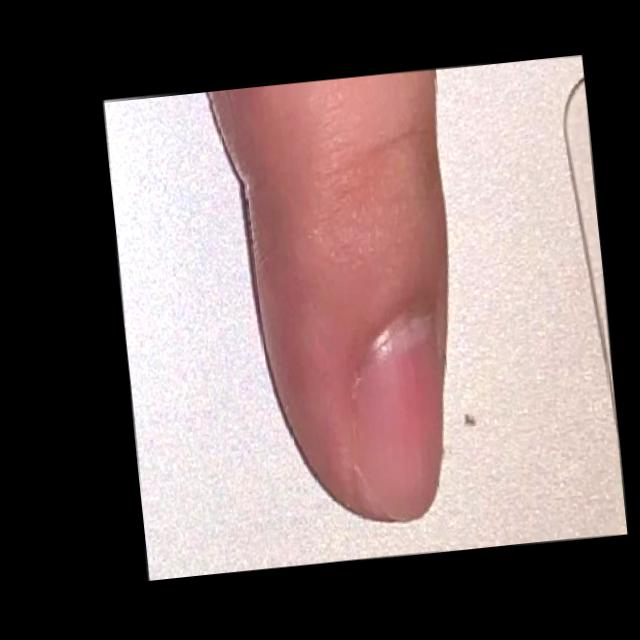Nail: (349, 319, 445, 524)
